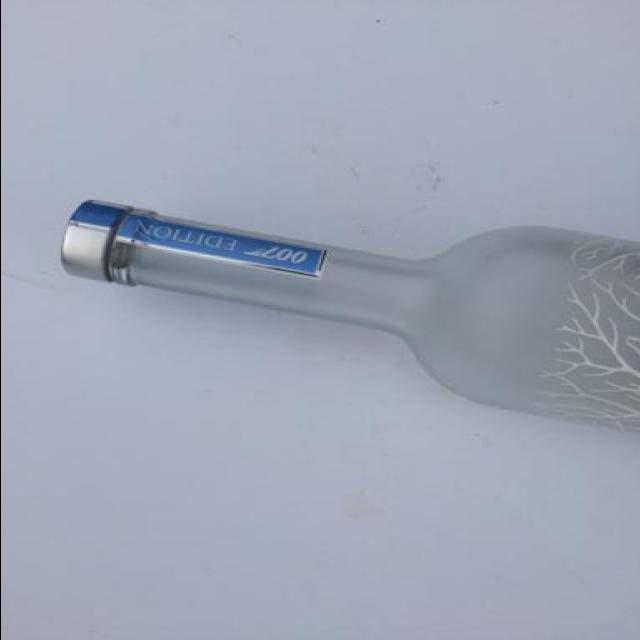glass: (58, 202, 640, 430)
